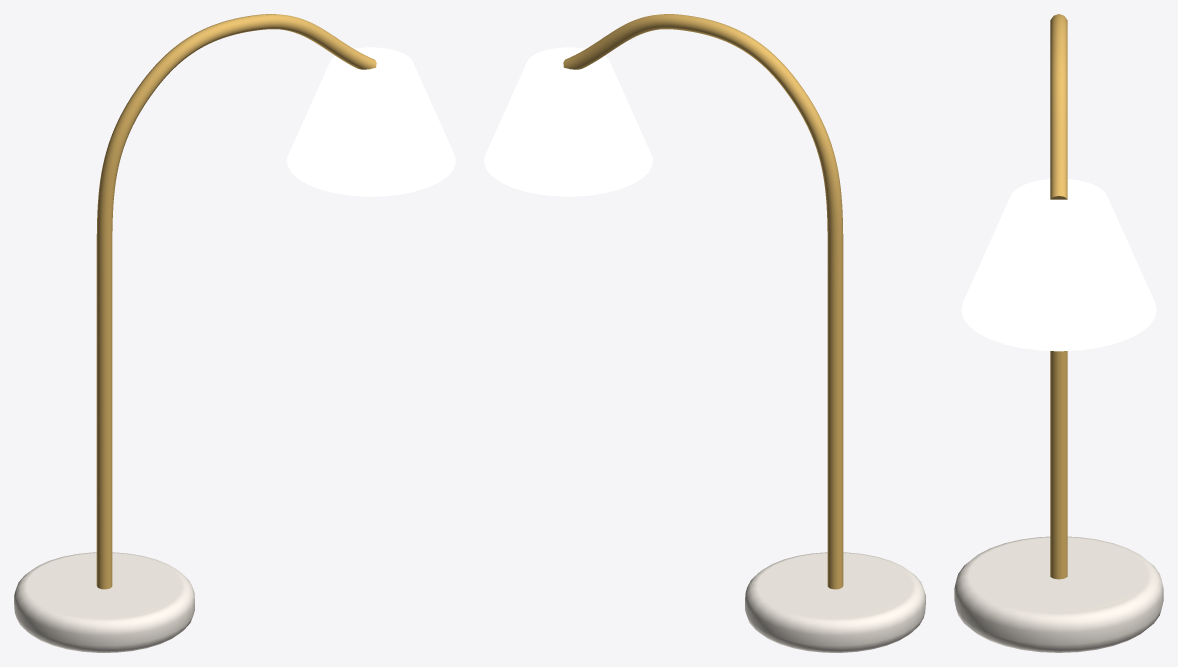
Rendered from lampFloorArc.glb.
3 views of the same model, side by side, from view 1: azimuth 30°, elevation 25°; view 2: azimuth 150°, elevation 25°; view 3: azimuth 270°, elevation 25° (orthographic). The views are drawn at different scales.
Parts seen in each view (by area): view 1: Arc lamp shade, Heavy arc lamp base, Brass arch stem; view 2: Arc lamp shade, Heavy arc lamp base, Brass arch stem; view 3: Arc lamp shade, Heavy arc lamp base, Brass arch stem.
Boxes of the visible parts, bbox=[...] form: Arc lamp shade: bbox=[287, 47, 455, 196]; Heavy arc lamp base: bbox=[14, 552, 194, 652]; Brass arch stem: bbox=[96, 14, 376, 589]; Arc lamp shade: bbox=[484, 47, 652, 196]; Heavy arc lamp base: bbox=[745, 552, 925, 652]; Brass arch stem: bbox=[563, 14, 843, 589]; Arc lamp shade: bbox=[961, 179, 1156, 351]; Heavy arc lamp base: bbox=[954, 536, 1163, 652]; Brass arch stem: bbox=[1050, 14, 1067, 579].
Size of the model in its own units: 1.6 by 2.07 by 0.6.
